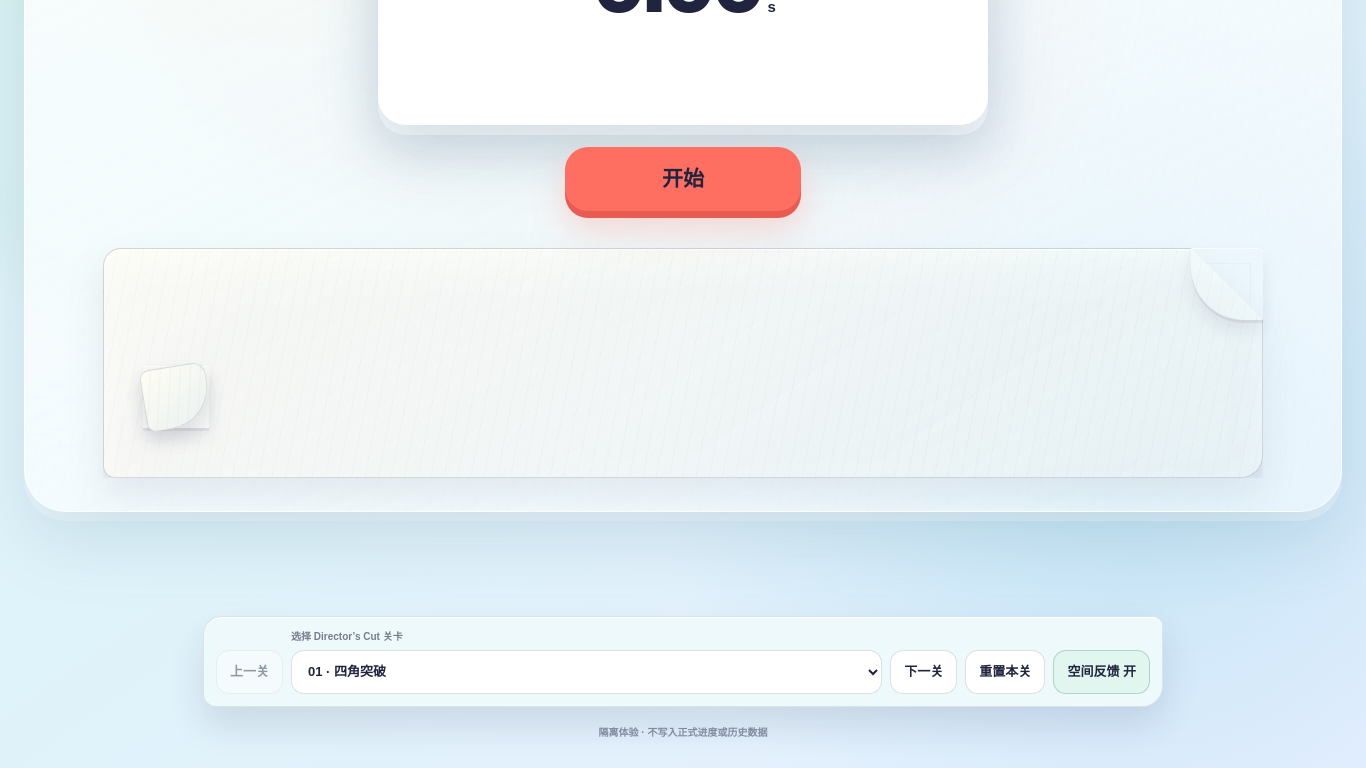
Test case: Director's Cut 36-level isolated campaign › can disable the visual layer without changing puzzle completion
This screenshot has width=1366, height=768.
(page scrolled)
Step 1. Click the button "空间反馈 开" → (1102, 672), box [1053, 650, 1150, 694]
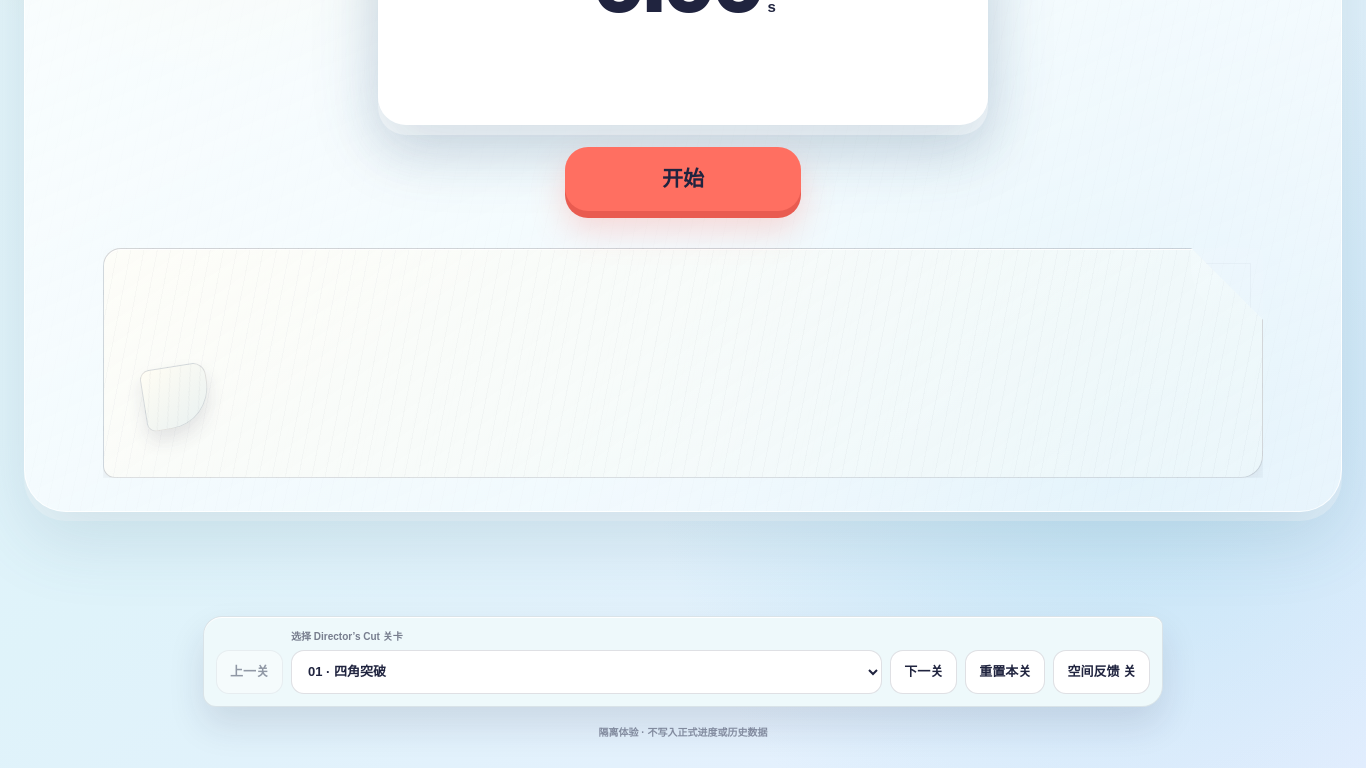
Expected: the drawing with test id "spatial-time-field" is gone
Step 2. Press Enter in the button named "纸页缺口", box [1191, 248, 1263, 320]
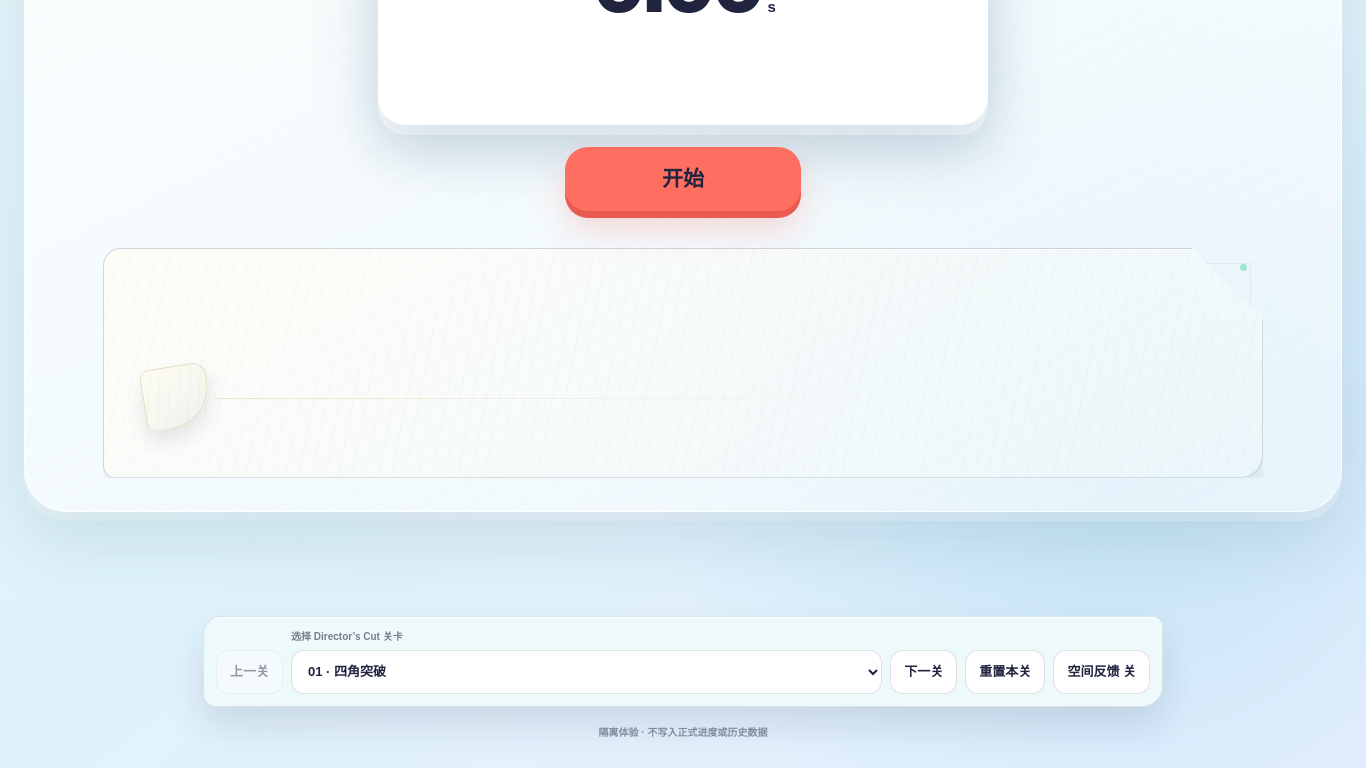
Step 3. Press ArrowRight in the button named "页边的纸片", box [143, 366, 209, 428]
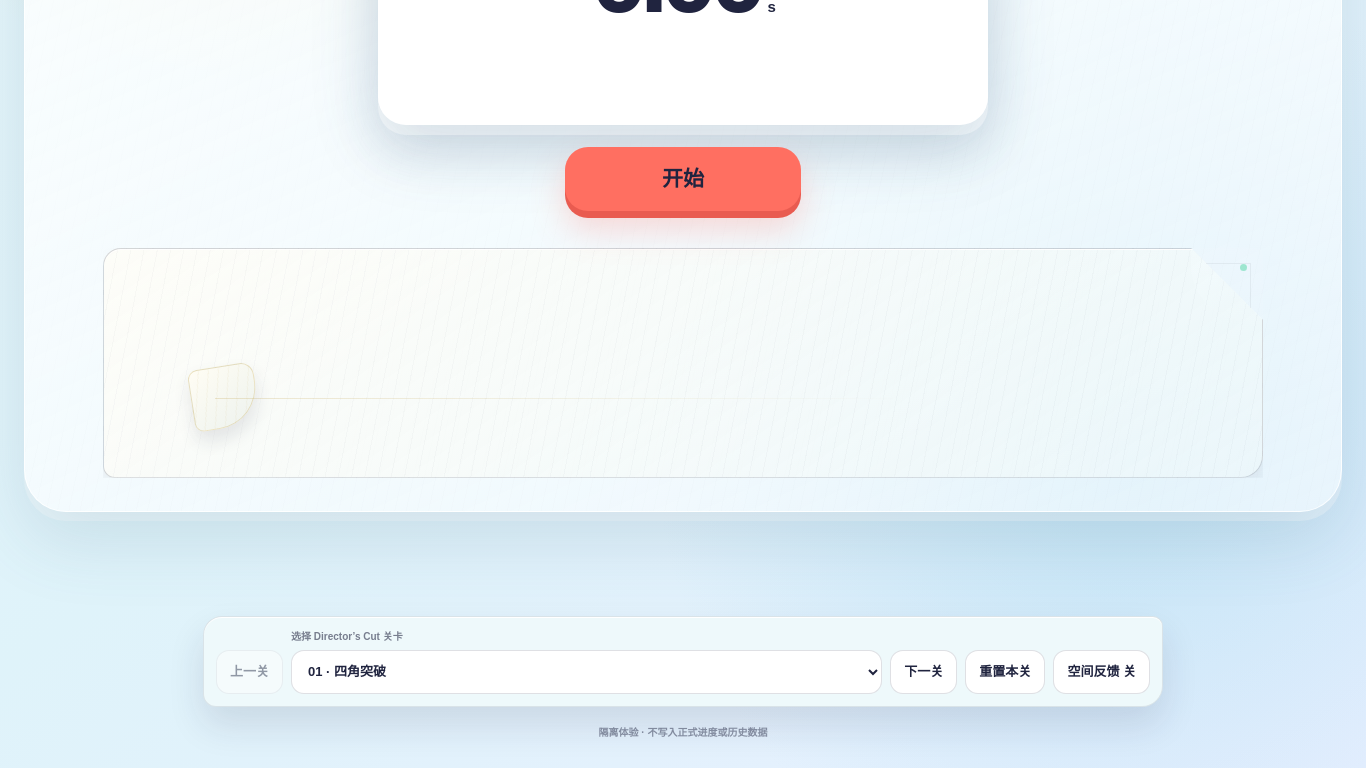
Step 4. Press ArrowRight in the button named "页边的纸片", box [191, 366, 257, 428]
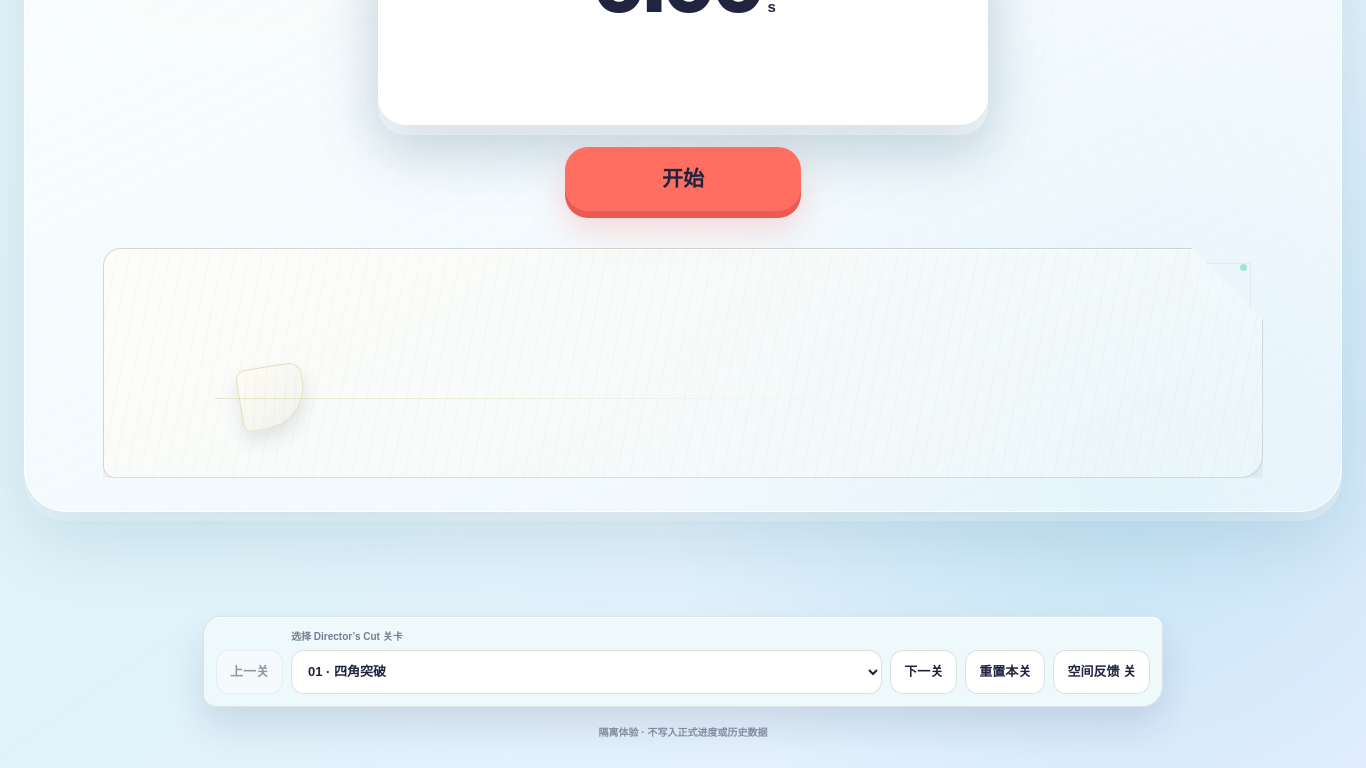
Step 5. Press ArrowRight in the button named "页边的纸片", box [239, 366, 305, 428]
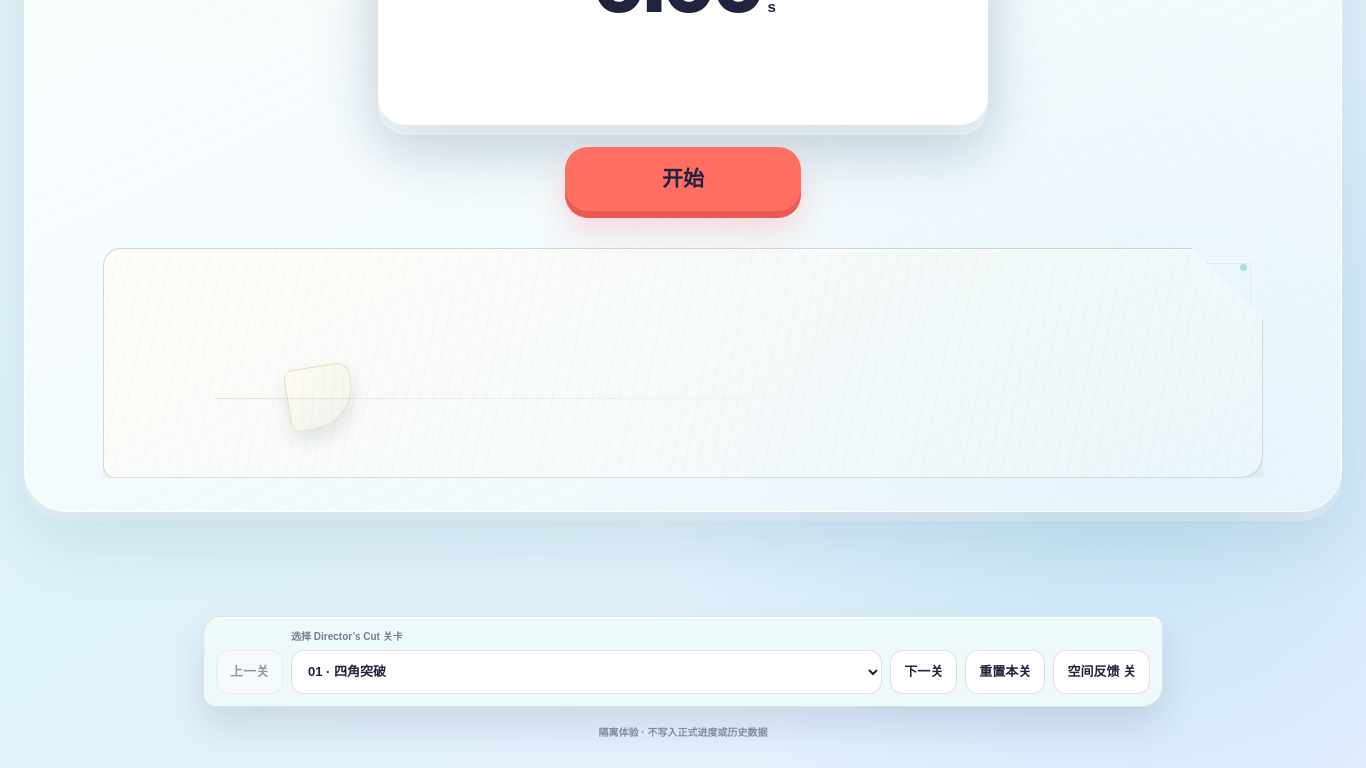
Step 6. Press ArrowDown in the button named "页边的纸片", box [287, 366, 353, 428]
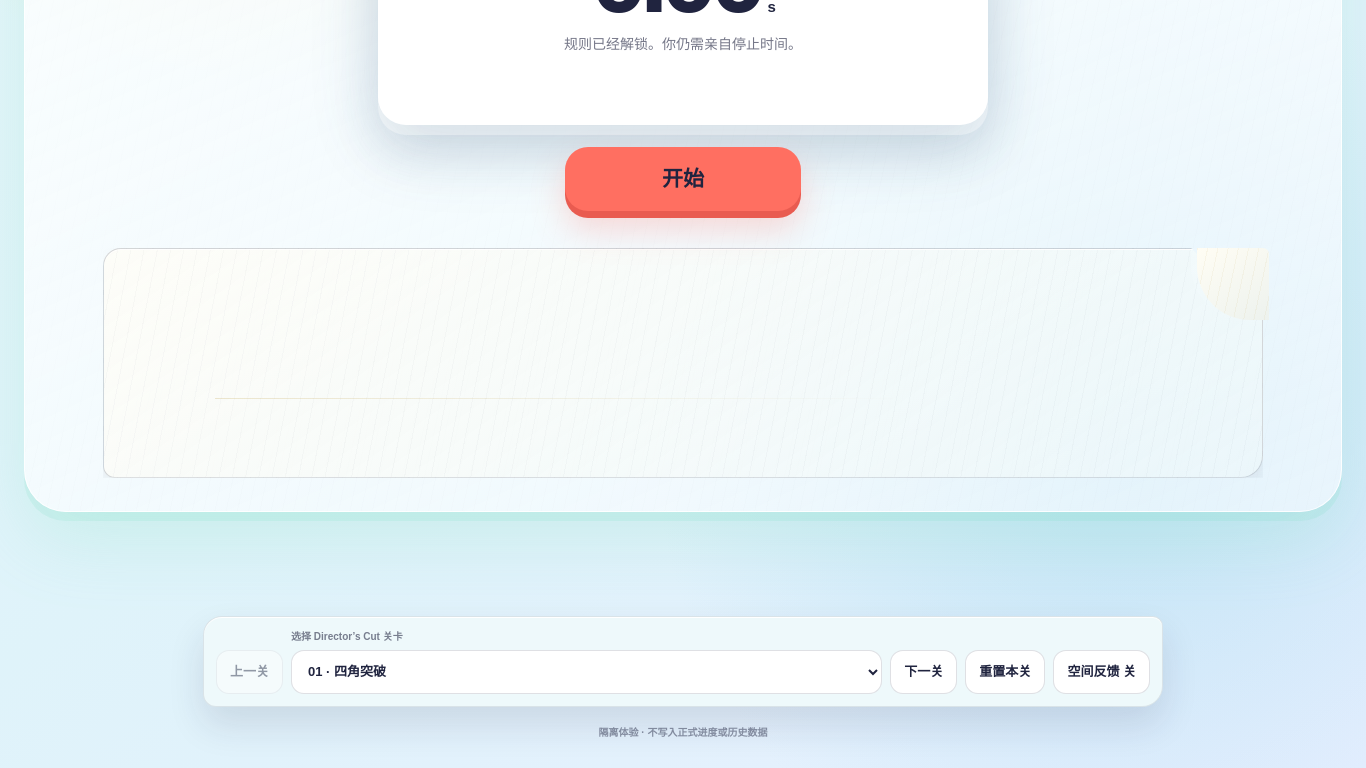
Expected: the text "规则已经解锁。你仍需亲自停止时间。" is shown, [564, 34, 802, 58]
